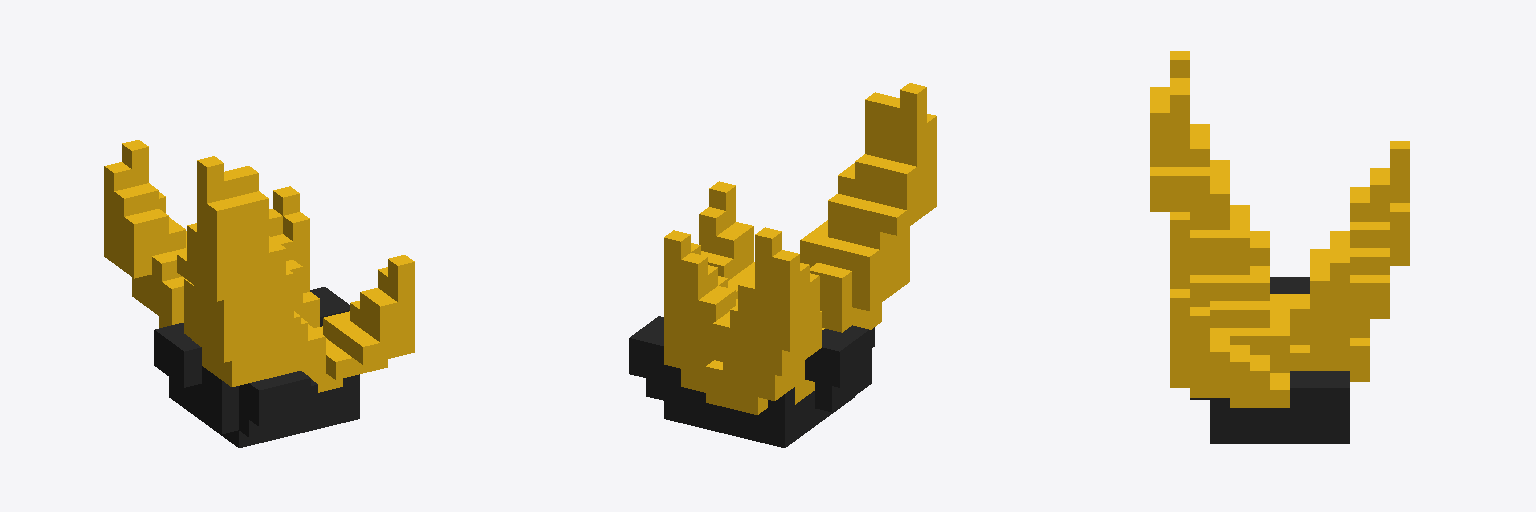
3 renders of one model, left to right at view 1: azimuth 30°, elevation 25°; view 2: azimuth 150°, elevation 25°; view 3: azimuth 270°, elevation 25°, orthographic.
Parts seen in each view (by area): view 1: Untitled; view 2: Untitled; view 3: Untitled.
Part boxes in pixels (left/top/right/bottom): Untitled: left=104, top=140, right=414, bottom=447; Untitled: left=629, top=83, right=936, bottom=447; Untitled: left=1150, top=51, right=1409, bottom=443.
Size of the model in its own units: 1.2 by 1.7 by 1.3.
1 materials, 1 textured.